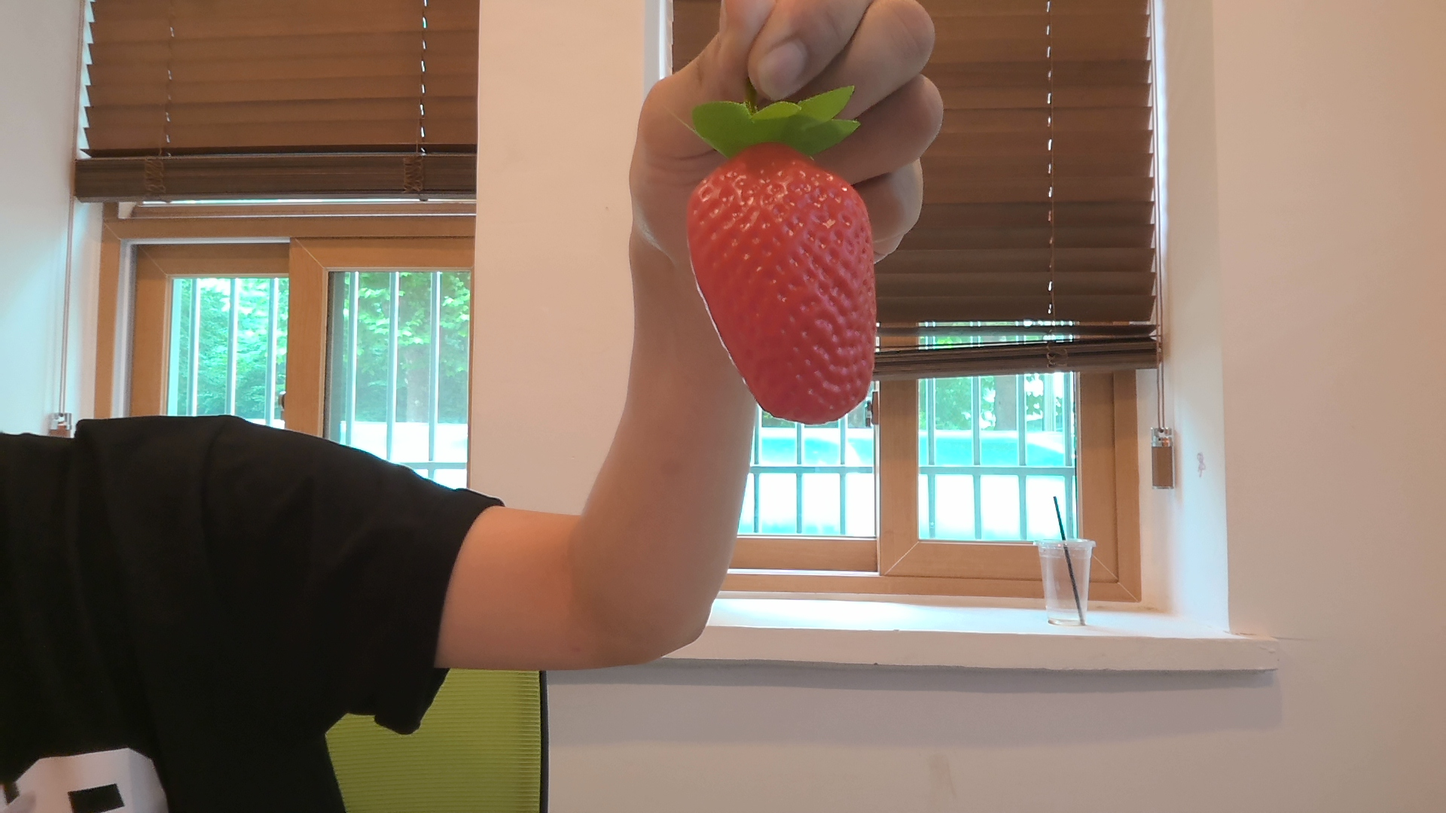strawberry: (671, 136, 889, 433)
